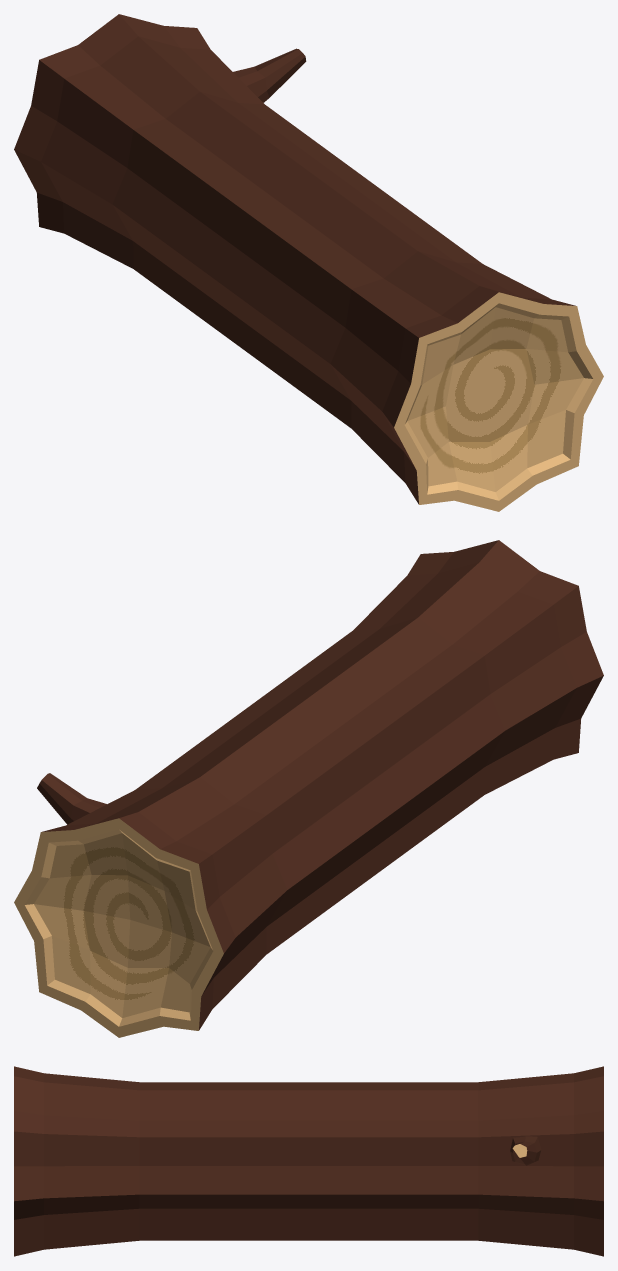
File: Log.glb
3 views of the same model, one above another, from view 1: azimuth 30°, elevation 25°; view 2: azimuth 150°, elevation 25°; view 3: azimuth 270°, elevation 25° (orthographic). The views are drawn at different scales.
Parts seen in each view (by area): view 1: Log; view 2: Log; view 3: Log.
Boxes of the visible parts, bbox=[...] form: Log: bbox=[14, 14, 603, 511]; Log: bbox=[14, 540, 603, 1037]; Log: bbox=[14, 1066, 603, 1256].
Bounding box in the file's own units: 1.71 × 1.51 × 4.73.
1 material, 1 textured.
